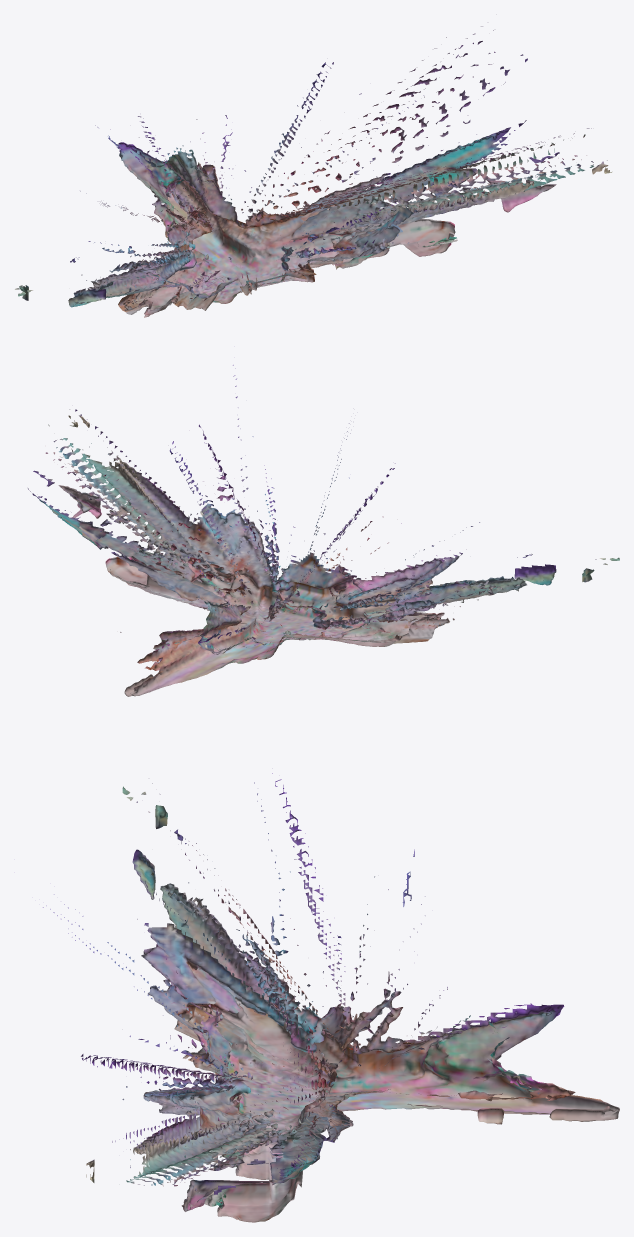
The model's file is Iridescent Zen Village_collider.glb.
The picture shows the model from 3 angles, top to bottom: view 1: azimuth 30°, elevation 25°; view 2: azimuth 150°, elevation 25°; view 3: azimuth 270°, elevation 25°; orthographic projection. The views are drawn at different scales.
Visible parts, largest first — view 1: world; view 2: world; view 3: world.
Part boxes in pixels (x1=…): world: x1=15, y1=26, x2=612, y2=317; world: x1=28, y1=365, x2=619, y2=696; world: x1=43, y1=773, x2=619, y2=1222.
Bounding box in the file's own units: 79.84 × 27.6 × 53.28.
